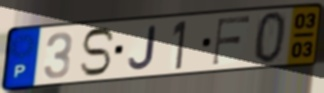0: (252, 10, 288, 66)
1: (171, 19, 188, 71)
3: (42, 31, 74, 80)
F: (210, 14, 253, 67)
J: (126, 24, 158, 72)
S: (77, 26, 117, 79)
